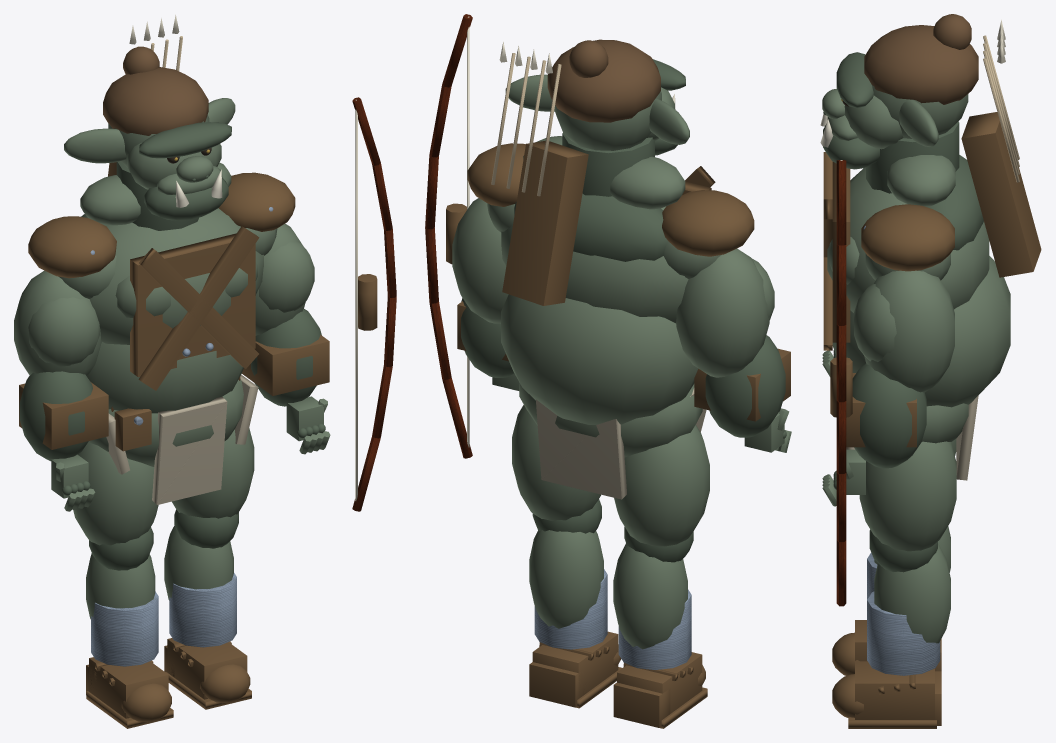
Rendered from orco_arquero.glb.
3 views of the same model, side by side, from view 1: azimuth 30°, elevation 25°; view 2: azimuth 150°, elevation 25°; view 3: azimuth 270°, elevation 25° (orthographic). The views are drawn at different scales.
Parts seen in each view (by area): view 1: Grupo_1_35piezas, Grupo_0_28piezas, Grupo_3_18piezas, Grupo_2_14piezas, Grupo_4_4piezas, Grupo_8_2piezas, Grupo_9_6piezas, Arq_Cuerda_Arco; view 2: Grupo_1_35piezas, Grupo_0_28piezas, Grupo_3_18piezas, Grupo_8_2piezas, Grupo_4_4piezas, Grupo_2_14piezas, Grupo_9_6piezas, Grupo_10_4piezas, Arq_Cuerda_Arco; view 3: Grupo_1_35piezas, Grupo_0_28piezas, Grupo_3_18piezas, Grupo_8_2piezas, Grupo_9_6piezas, Grupo_2_14piezas, Grupo_10_4piezas, Grupo_4_4piezas.
Boxes of the visible parts, <box> form: Grupo_1_35piezas: <box>14,98,330,619</box>; Grupo_0_28piezas: <box>19,162,377,728</box>; Grupo_3_18piezas: <box>19,122,325,570</box>; Grupo_2_14piezas: <box>90,207,273,666</box>; Grupo_4_4piezas: <box>106,374,258,504</box>; Grupo_8_2piezas: <box>103,46,208,135</box>; Grupo_9_6piezas: <box>352,97,396,511</box>; Arq_Cuerda_Arco: <box>355,99,357,500</box>; Grupo_1_35piezas: <box>452,74,791,649</box>; Grupo_0_28piezas: <box>446,140,790,728</box>; Grupo_3_18piezas: <box>461,59,786,562</box>; Grupo_8_2piezas: <box>547,39,660,122</box>; Grupo_4_4piezas: <box>536,388,706,499</box>; Grupo_2_14piezas: <box>534,569,691,669</box>; Grupo_9_6piezas: <box>425,14,472,458</box>; Grupo_10_4piezas: <box>491,53,561,196</box>; Arq_Cuerda_Arco: <box>467,16,469,447</box>; Grupo_1_35piezas: <box>822,85,1010,643</box>; Grupo_0_28piezas: <box>823,112,1041,728</box>; Grupo_3_18piezas: <box>823,52,983,572</box>; Grupo_8_2piezas: <box>864,14,978,104</box>; Grupo_9_6piezas: <box>836,160,846,606</box>; Grupo_2_14piezas: <box>863,225,940,675</box>; Grupo_10_4piezas: <box>983,35,1019,182</box>; Grupo_4_4piezas: <box>836,355,978,480</box>.
Size of the model in its own units: 1.97 by 3.4 by 0.9952.
13 materials, 3 textured.
